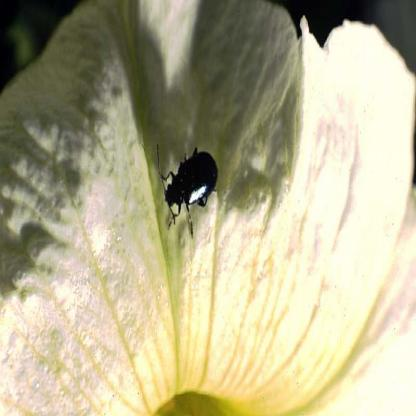beetle: (154, 140, 218, 234)
